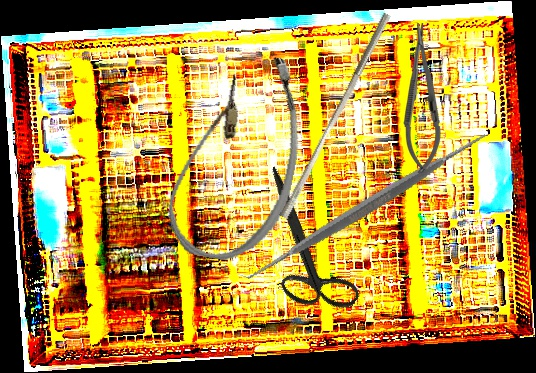Cannula: (160, 42, 315, 271)
Iris Scissors: (217, 165, 393, 331)
Needle Holder: (401, 22, 443, 174)
Pusher: (279, 8, 391, 223)
Spatula Surgical: (231, 71, 502, 342)
